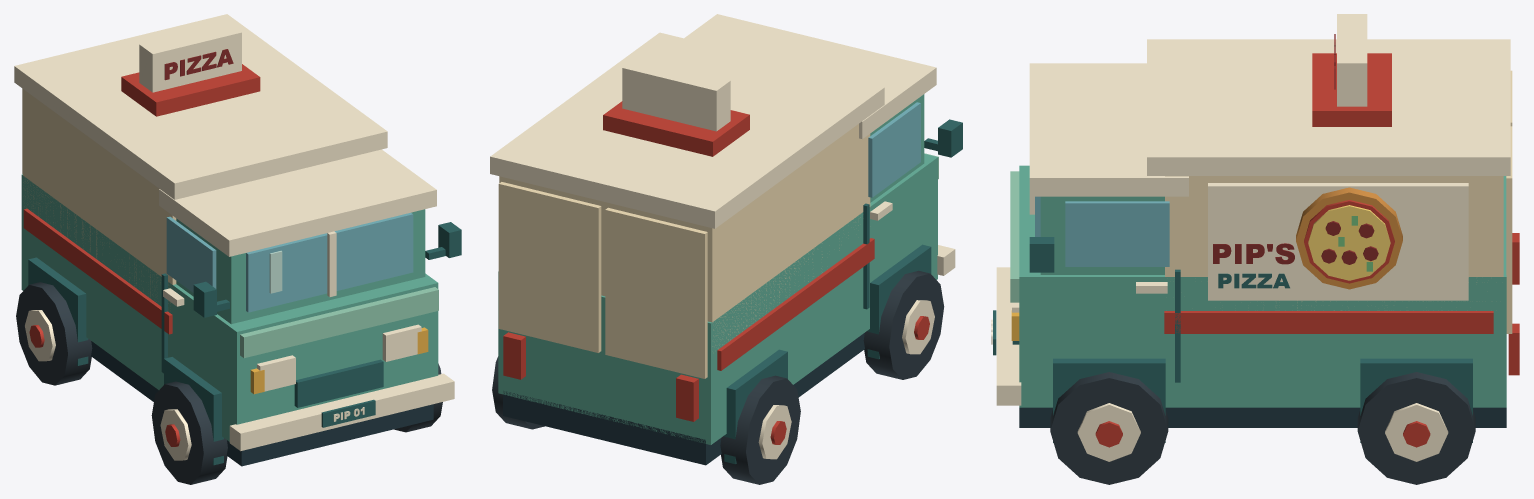
The model's file is pizza_van.glb.
3 views of the same model, side by side, from view 1: azimuth 30°, elevation 25°; view 2: azimuth 150°, elevation 25°; view 3: azimuth 270°, elevation 25° (orthographic). The views are drawn at different scales.
Visible parts, largest first — view 1: Roof_004, Body_002, Cab_roof_006, Cargo_top_003, Windshield_007, Front_bumper_016, Front_hood_010, Roof_sign_066, Chassis_001, Cab_top_005, Octagonal_tyre_030, Octagonal_tyre_026 (+17 smaller); view 2: Roof_004, Body_002, Cargo_top_003, Rear_door_062, Rear_door_061, Cab_roof_006, Chassis_001, Roof_sign_066, Octagonal_tyre_026, Octagonal_tyre_030, Roof_sign_base_065, Livery_stripe_024 (+11 smaller); view 3: Roof_004, Body_002, Logo_panel_047, Cab_roof_006, Cargo_top_003, Octagonal_tyre_040, Octagonal_tyre_044, Livery_stripe_038, Side_window_033, Chassis_001, Roof_sign_base_065, Mozzarella_050 (+17 smaller).
Boxes of the visible parts, x1=… form: Roof_004: x1=14, y1=14, x2=387, y2=199; Body_002: x1=21, y1=174, x2=438, y2=441; Cab_roof_006: x1=159, y1=149, x2=436, y2=256; Cargo_top_003: x1=23, y1=89, x2=176, y2=303; Windshield_007: x1=246, y1=212, x2=413, y2=312; Front_bumper_016: x1=229, y1=373, x2=454, y2=451; Front_hood_010: x1=240, y1=287, x2=438, y2=358; Roof_sign_066: x1=139, y1=23, x2=241, y2=92; Chassis_001: x1=91, y1=341, x2=433, y2=466; Cab_top_005: x1=176, y1=209, x2=425, y2=324; Octagonal_tyre_030: x1=151, y1=381, x2=227, y2=484; Octagonal_tyre_026: x1=16, y1=282, x2=92, y2=385; Roof_004: x1=490, y1=32, x2=884, y2=228; Body_002: x1=498, y1=154, x2=937, y2=444; Cargo_top_003: x1=499, y1=124, x2=870, y2=348; Rear_door_062: x1=498, y1=182, x2=601, y2=352; Rear_door_061: x1=605, y1=207, x2=707, y2=378; Cab_roof_006: x1=684, y1=14, x2=936, y2=139; Chassis_001: x1=503, y1=333, x2=864, y2=465; Roof_sign_066: x1=622, y1=57, x2=730, y2=131; Octagonal_tyre_026: x1=720, y1=375, x2=800, y2=484; Octagonal_tyre_030: x1=863, y1=270, x2=944, y2=379; Roof_sign_base_065: x1=603, y1=101, x2=749, y2=156; Livery_stripe_024: x1=717, y1=238, x2=874, y2=370; Roof_004: x1=1147, y1=39, x2=1510, y2=175; Body_002: x1=1019, y1=165, x2=1506, y2=407; Logo_panel_047: x1=1208, y1=183, x2=1468, y2=300; Cab_roof_006: x1=1029, y1=63, x2=1188, y2=196; Cargo_top_003: x1=1165, y1=176, x2=1503, y2=310; Octagonal_tyre_040: x1=1357, y1=372, x2=1475, y2=484; Octagonal_tyre_044: x1=1050, y1=372, x2=1168, y2=484; Livery_stripe_038: x1=1164, y1=311, x2=1493, y2=333; Side_window_033: x1=1065, y1=201, x2=1169, y2=266; Chassis_001: x1=1019, y1=407, x2=1506, y2=427; Roof_sign_base_065: x1=1312, y1=53, x2=1391, y2=126; Mozzarella_050: x1=1308, y1=205, x2=1390, y2=280.
Size of the model in its own units: 2.45 by 3.06 by 3.85.
